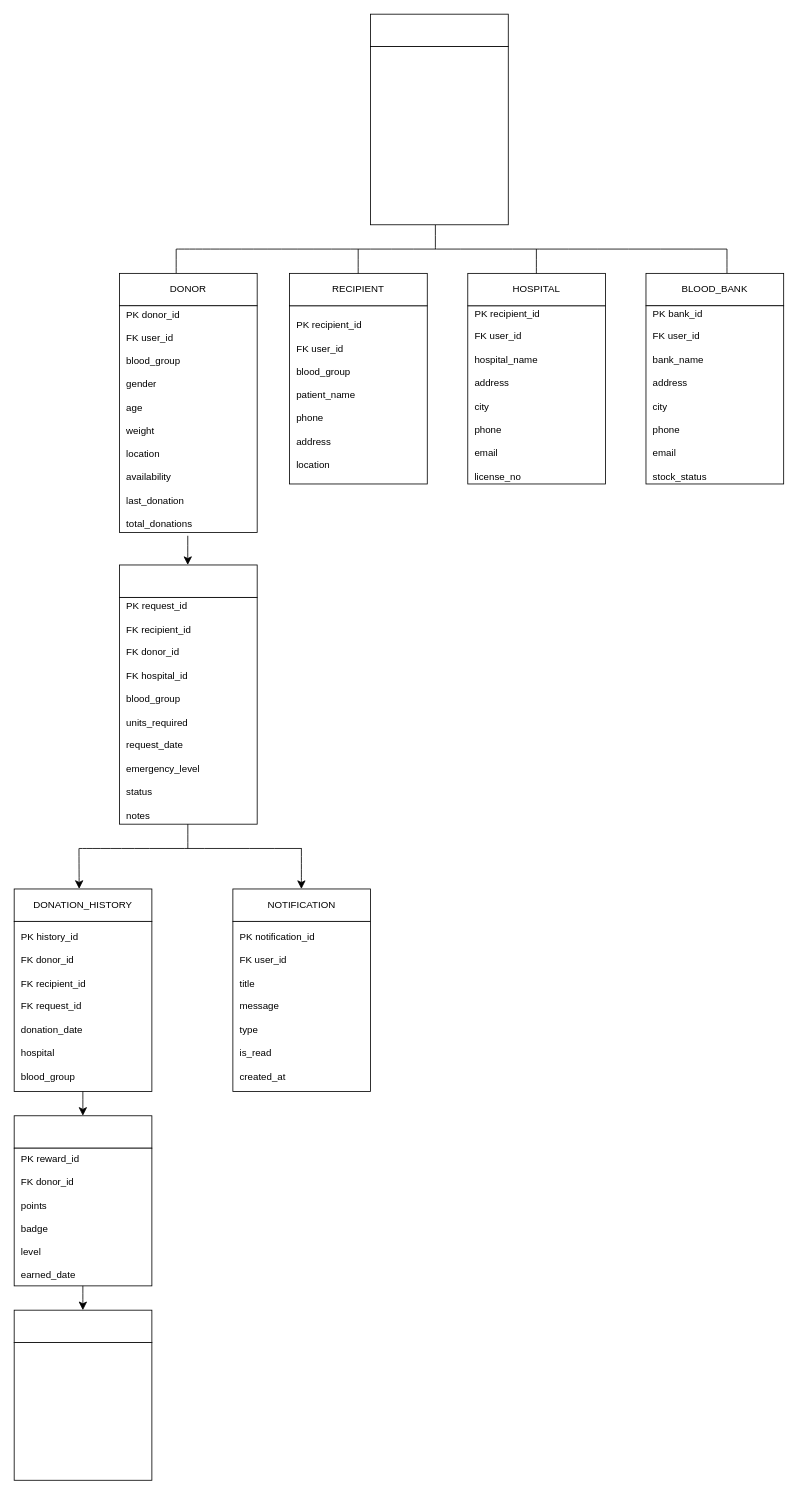
Image size: 798x1494. Some labels were removed from this diagram. Here are the shapes that lost their labels. From the top down, the centre of each, then its label:
At (x=439, y=30): "User".
At (x=439, y=135): "PK user_id full_name email phone password_hash role profile_image created_at".
At (x=188, y=580): "BLOOD_REQUEST".
At (x=82, y=1131): "REWARDS".
At (x=82, y=1326): "BLOOD_INVENTORY".
At (x=82, y=1411): "PK inventory_id FK bank_id blood_group available_units expiry_date last_updated".
